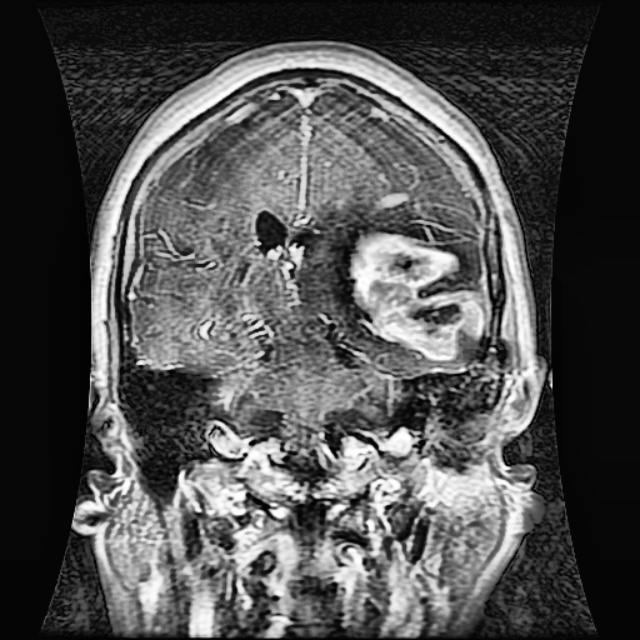Meningioma: (337, 233, 488, 358)
